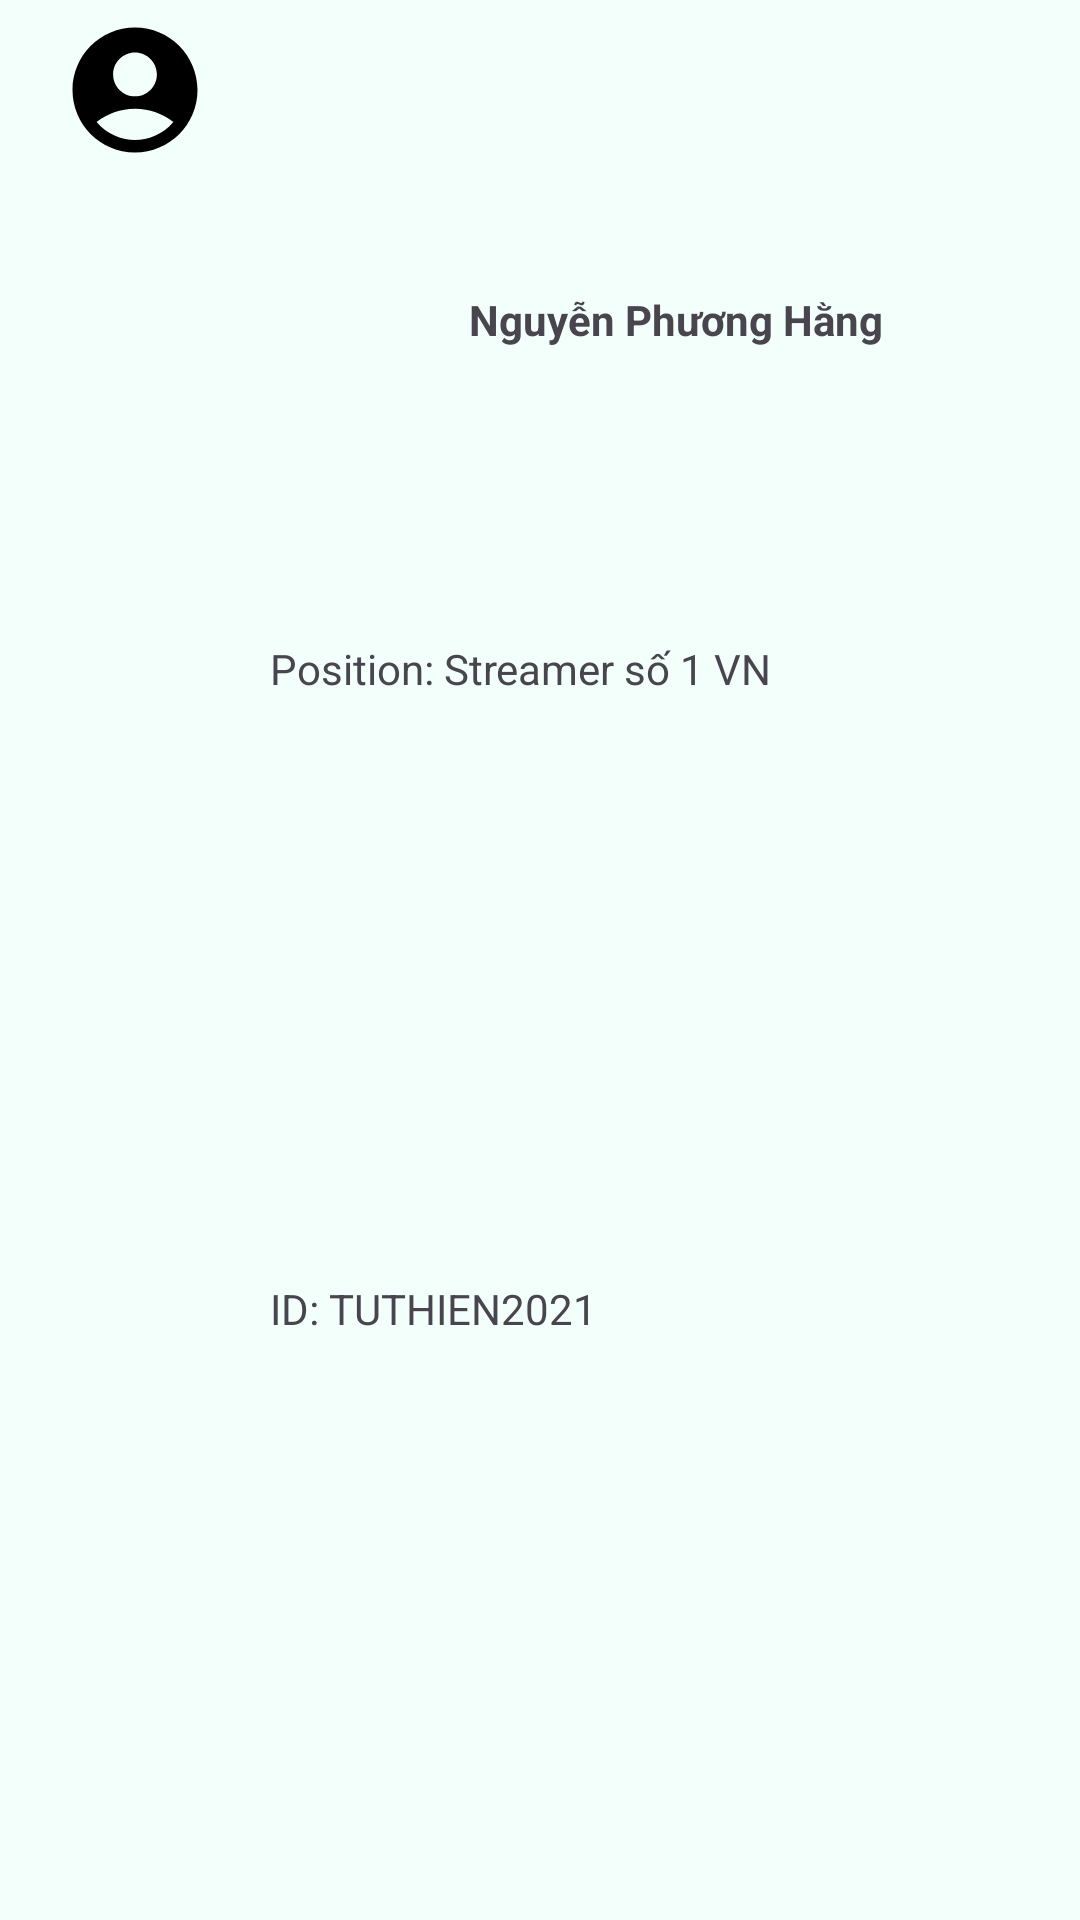

Named icons in this screenshot (1080 x 1920) and their centers, (x=x, y=y):
account: (x=135, y=90)
